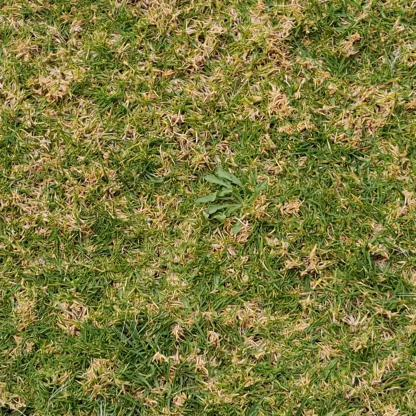Weeds: (197, 171, 267, 235)
